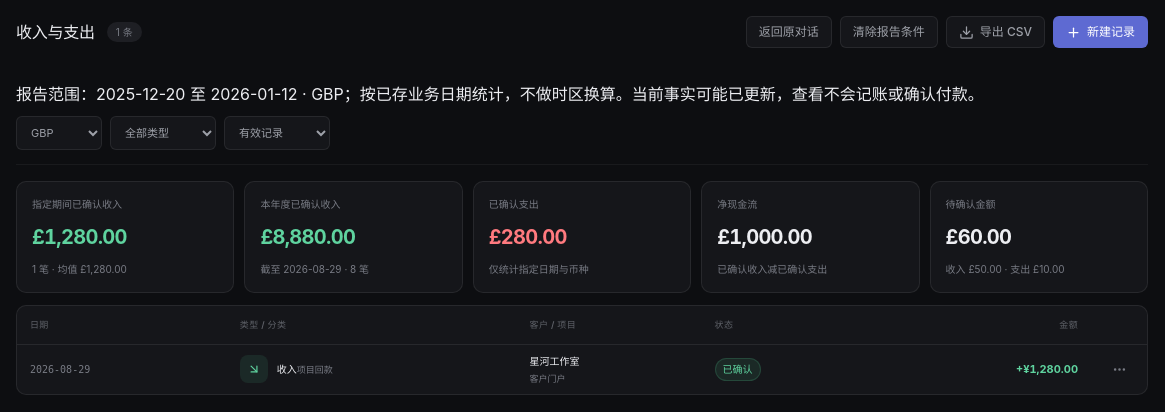
Test: IncomePage › opens the exact AI report range from its first query and explicitly clears it
The image size is (1165, 412).
Expected: the dropdown named "币种筛选" is disabled, [16,116,102,150]
Expected: the field labelled "月份" is not shown
Click the link "清除报告条件" at coordinates (889, 32), box [840,16,938,48]
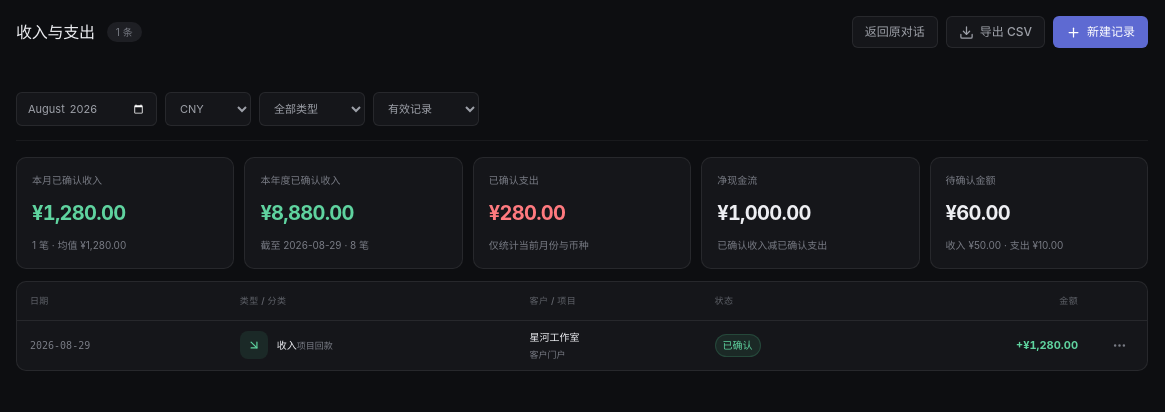
Expected: the link "返回原对话" is shown, [852,16,938,48]
Expected: the field named "月份" holds "2026-08", [16,92,157,126]
Expected: the dropdown named "币种筛选" is enabled, [165,92,251,126]
